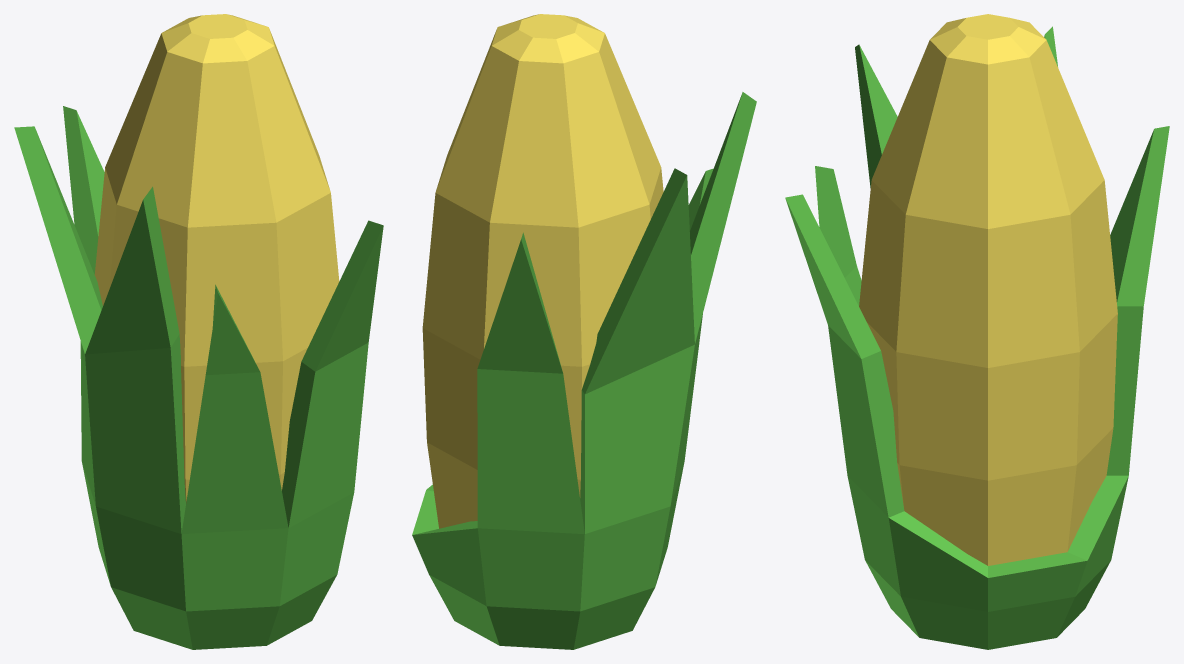
The model's file is corn_cob_01.fbx.
3 views of the same model, side by side, from view 1: azimuth 30°, elevation 25°; view 2: azimuth 150°, elevation 25°; view 3: azimuth 270°, elevation 25° (orthographic).
Parts seen in each view (by area): view 1: corn_cob_01; view 2: corn_cob_01; view 3: corn_cob_01.
Part boxes in pixels (x1=…): corn_cob_01: x1=14, y1=14, x2=383, y2=649; corn_cob_01: x1=412, y1=14, x2=756, y2=649; corn_cob_01: x1=785, y1=14, x2=1169, y2=649.
Size of the model in its own units: 13.27 by 25.22 by 15.11.
